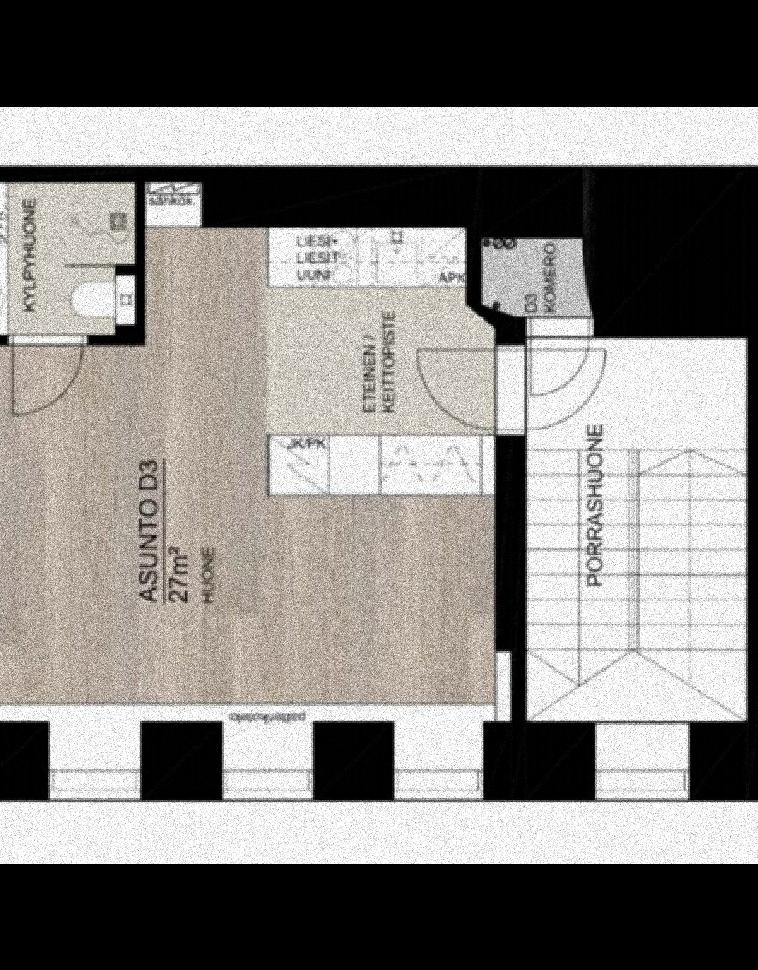door: (418, 345, 615, 431), (10, 327, 89, 414), (522, 315, 592, 398)
window: (49, 705, 145, 801), (221, 707, 315, 805), (393, 700, 485, 800), (588, 724, 690, 798)
zone: (0, 214, 497, 702), (527, 340, 753, 721), (0, 184, 129, 336), (480, 229, 609, 324)
